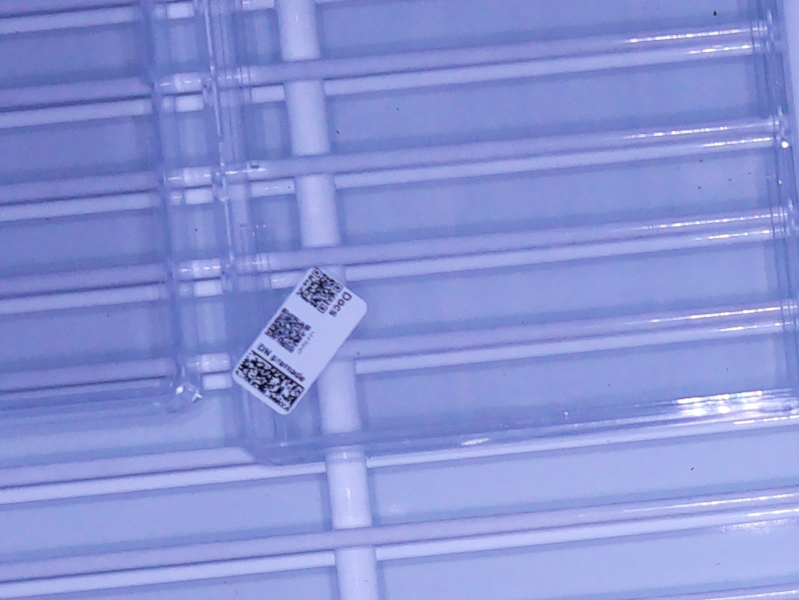plate: (207, 1, 799, 471), (1, 1, 207, 427)
